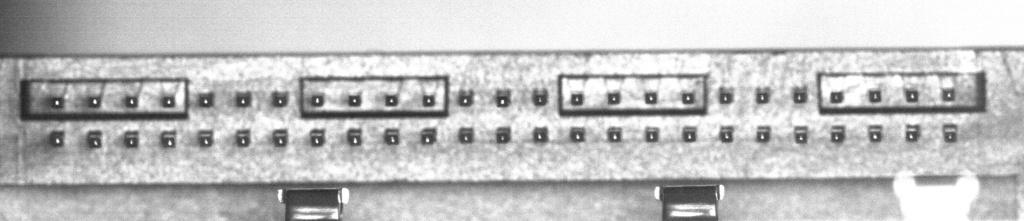pin_ok: (942, 123, 959, 142), (197, 129, 214, 147), (160, 130, 177, 148), (86, 130, 103, 148), (235, 128, 251, 147), (495, 88, 511, 107), (48, 129, 65, 146), (271, 90, 288, 107), (197, 90, 214, 107), (235, 90, 252, 107), (905, 124, 921, 142), (272, 128, 288, 146), (309, 128, 325, 146), (123, 130, 139, 148), (346, 127, 362, 145), (532, 88, 548, 106), (420, 127, 436, 145), (792, 86, 808, 103), (793, 126, 809, 143), (495, 126, 511, 143), (384, 128, 400, 145), (458, 89, 474, 106), (755, 87, 771, 103), (458, 127, 474, 143), (532, 126, 548, 142), (830, 126, 845, 143), (719, 87, 734, 103), (868, 126, 883, 142), (719, 126, 734, 142), (756, 126, 771, 142), (682, 126, 697, 142), (644, 126, 659, 142), (607, 126, 622, 141), (570, 127, 585, 142), (309, 93, 325, 107), (829, 90, 844, 104), (569, 91, 584, 105), (941, 87, 956, 101), (868, 89, 882, 103), (422, 92, 436, 106), (905, 88, 919, 102), (644, 90, 658, 104), (347, 93, 361, 107), (606, 91, 621, 104), (681, 91, 695, 104), (385, 93, 398, 107), (161, 95, 175, 108), (50, 96, 65, 108), (125, 95, 138, 108), (87, 96, 100, 107)
